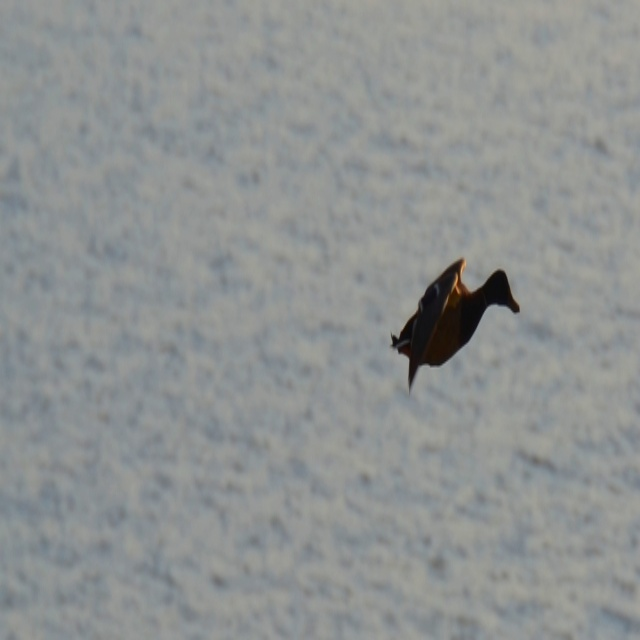Duck: (402, 237, 519, 392)
